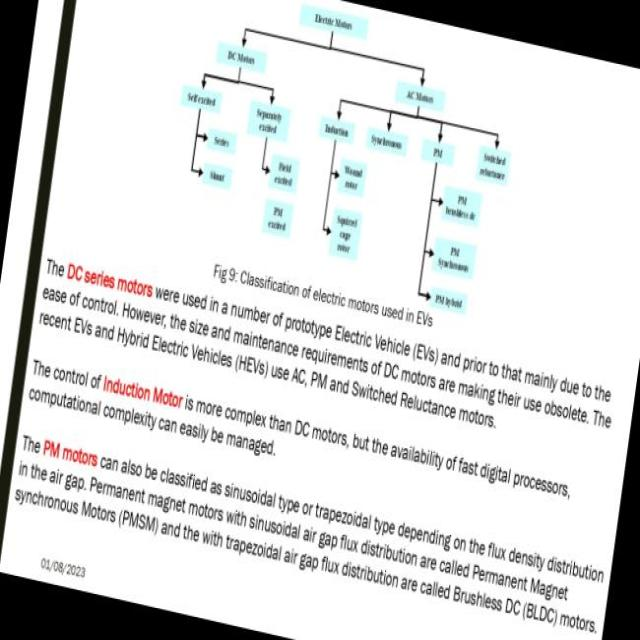Figure Detection - v3 Dataset Version2: (152, 0, 538, 329)
